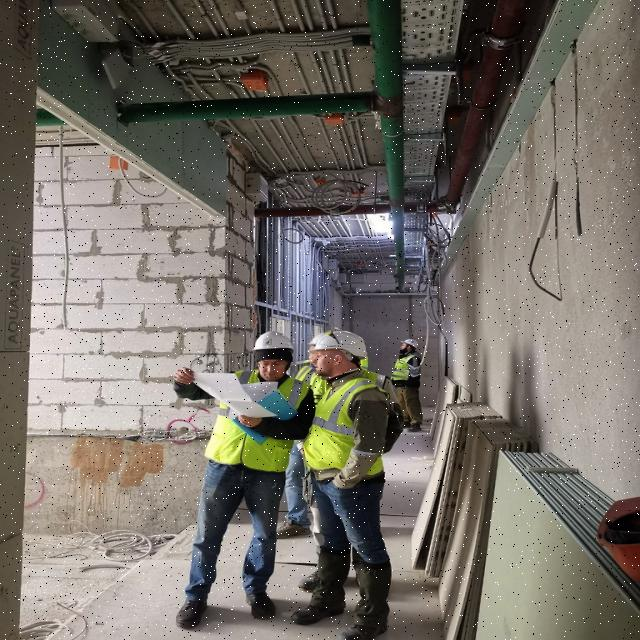Helmet: (311, 332, 371, 380), (254, 333, 296, 382), (307, 332, 327, 354), (400, 340, 421, 356)
